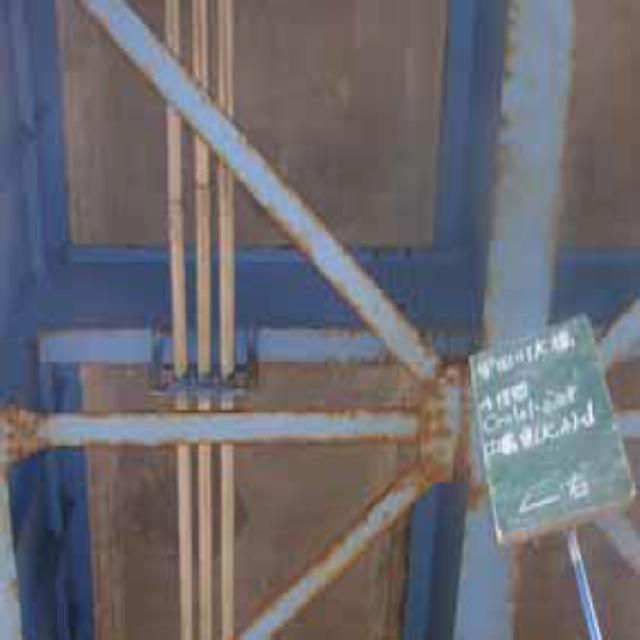corrosion: (71, 28, 493, 623)
